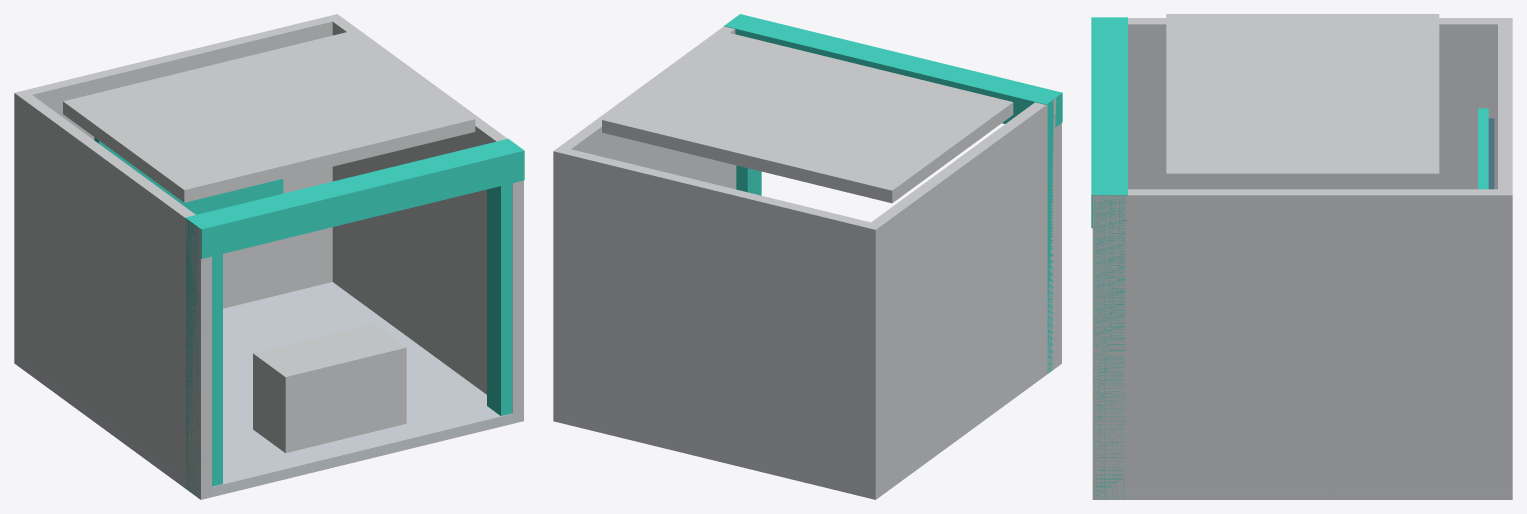
3 renders of one model, left to right at view 1: azimuth 30°, elevation 25°; view 2: azimuth 150°, elevation 25°; view 3: azimuth 270°, elevation 25°, orthographic. The views are drawn at different scales.
Visible parts, largest first — view 1: Exhibition Booth Concept; view 2: Exhibition Booth Concept; view 3: Exhibition Booth Concept.
Boxes of the visible parts, box(x1,y1,x2,y2) form: Exhibition Booth Concept: box(14, 14, 524, 499); Exhibition Booth Concept: box(553, 14, 1062, 499); Exhibition Booth Concept: box(1091, 14, 1512, 499).
Size of the model in its own units: 4 by 3.34 by 4.02.
